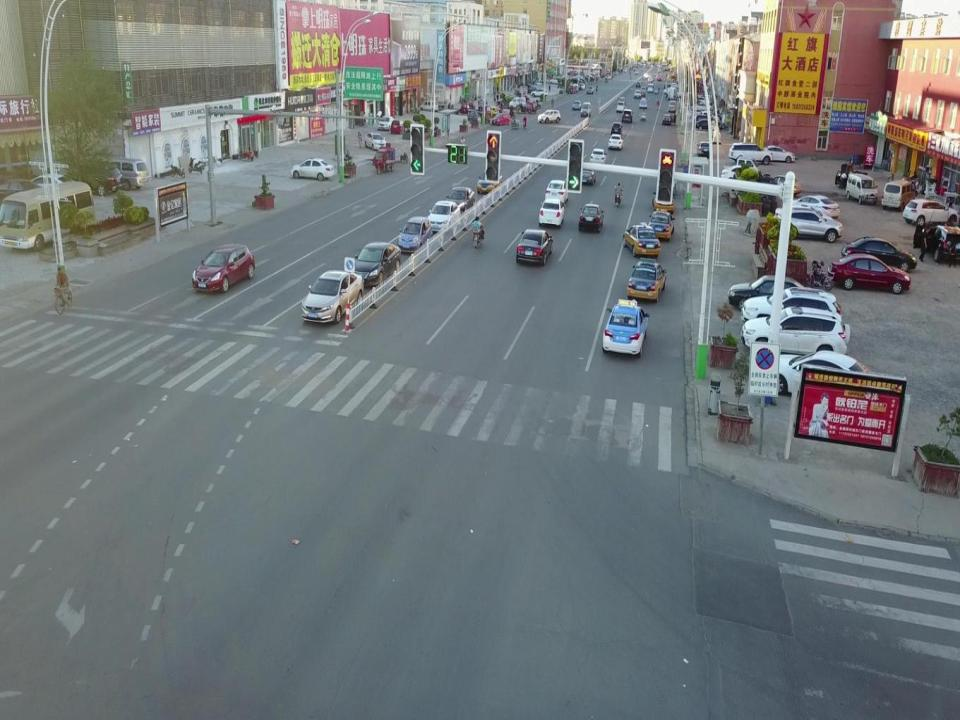bus: (0, 181, 95, 254)
car: (771, 349, 881, 415), (744, 313, 852, 355), (742, 291, 843, 332), (728, 275, 814, 318), (302, 271, 362, 326), (193, 245, 256, 290), (602, 301, 649, 361), (777, 205, 842, 248), (352, 243, 401, 290), (842, 237, 916, 267), (628, 258, 669, 301), (24, 172, 78, 204), (921, 222, 960, 266), (71, 160, 123, 193), (902, 197, 958, 227), (622, 222, 661, 259), (788, 194, 839, 221), (516, 229, 553, 266), (729, 140, 774, 168), (397, 216, 432, 248), (426, 200, 462, 231), (288, 157, 334, 181), (446, 186, 475, 218), (647, 210, 678, 238), (539, 198, 565, 229), (757, 145, 797, 165), (578, 204, 604, 232), (476, 168, 502, 196), (545, 179, 568, 206), (577, 164, 598, 188), (537, 108, 562, 127), (364, 133, 386, 152), (590, 148, 607, 168), (491, 112, 511, 127), (696, 140, 712, 158), (694, 118, 716, 130), (390, 118, 406, 133), (486, 105, 502, 120), (608, 134, 623, 150), (378, 116, 395, 130), (420, 100, 438, 113), (608, 122, 622, 138), (620, 108, 634, 124), (531, 88, 548, 99), (661, 116, 672, 127), (640, 96, 648, 109), (572, 100, 581, 111), (617, 102, 625, 113), (549, 77, 562, 83), (586, 86, 594, 95), (635, 81, 641, 87)
van: (99, 154, 150, 190), (881, 178, 918, 210), (845, 173, 878, 205), (508, 97, 527, 108), (581, 100, 591, 117), (668, 101, 676, 112), (634, 90, 642, 98), (641, 87, 646, 95)
